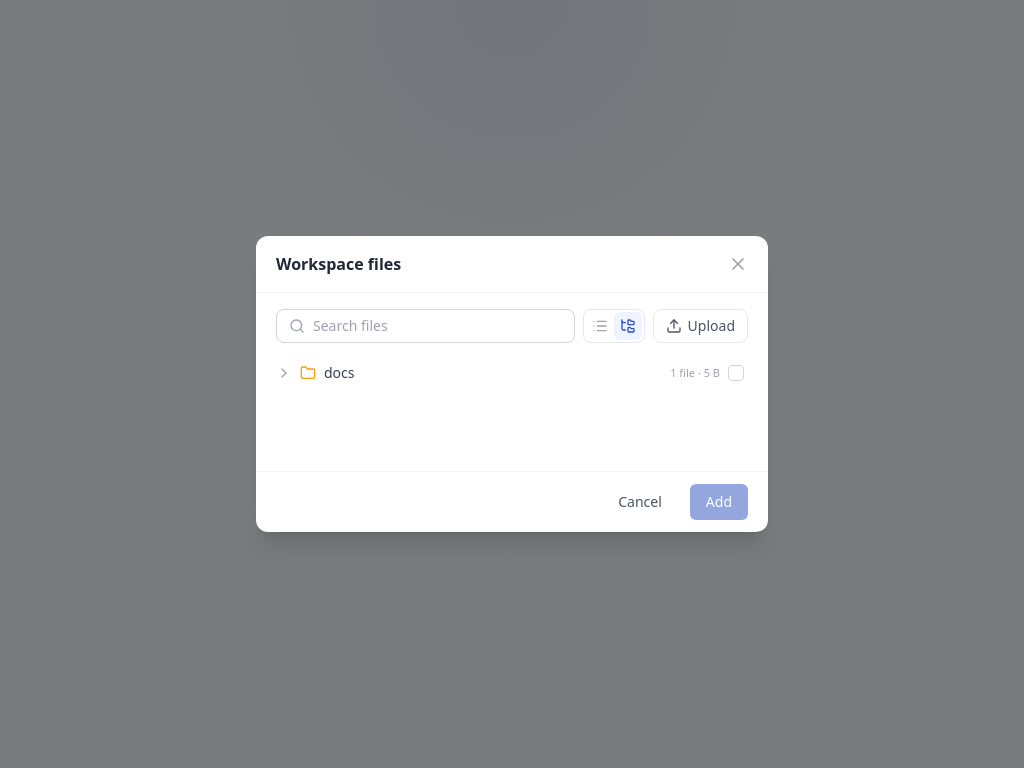
Scenario: WorkspaceFilePicker › opens on the view picked last time, and a search opens every folder
The width and height of the screenshot is (1024, 768).
Expected: the list with test id "picker-tree" is shown, [264,355,760,391]
Expected: the text "plan.md" is not shown
Type "plan" into the field with placeholder "Search files".
click(437, 326); type("plan")  # box [313,316,562,336]
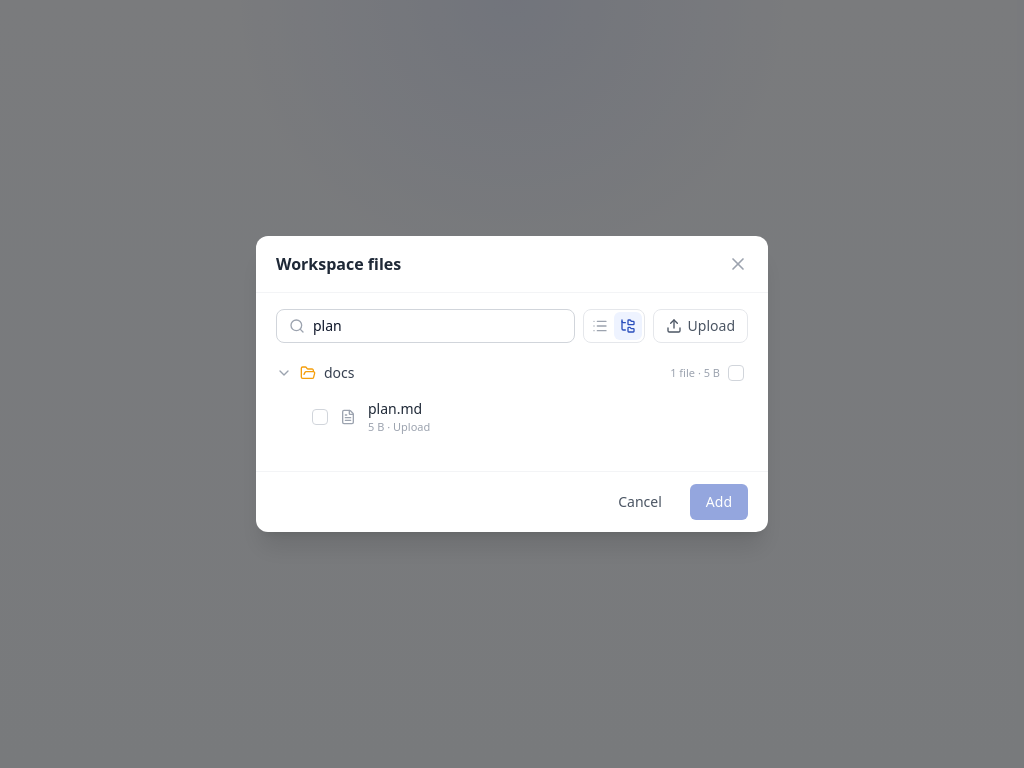
Now the text "plan.md" is shown, box [368,399,422,418]
